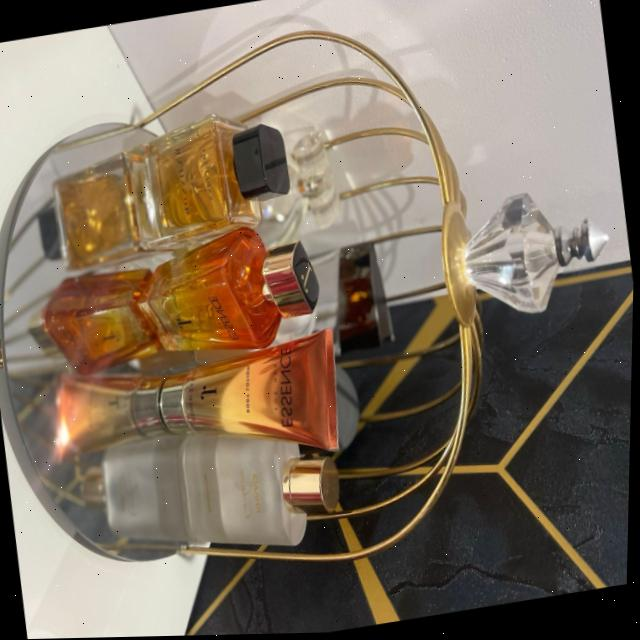foundation: (150, 311, 350, 468)
serum: (160, 415, 347, 557)
setting spray: (112, 105, 325, 328)
